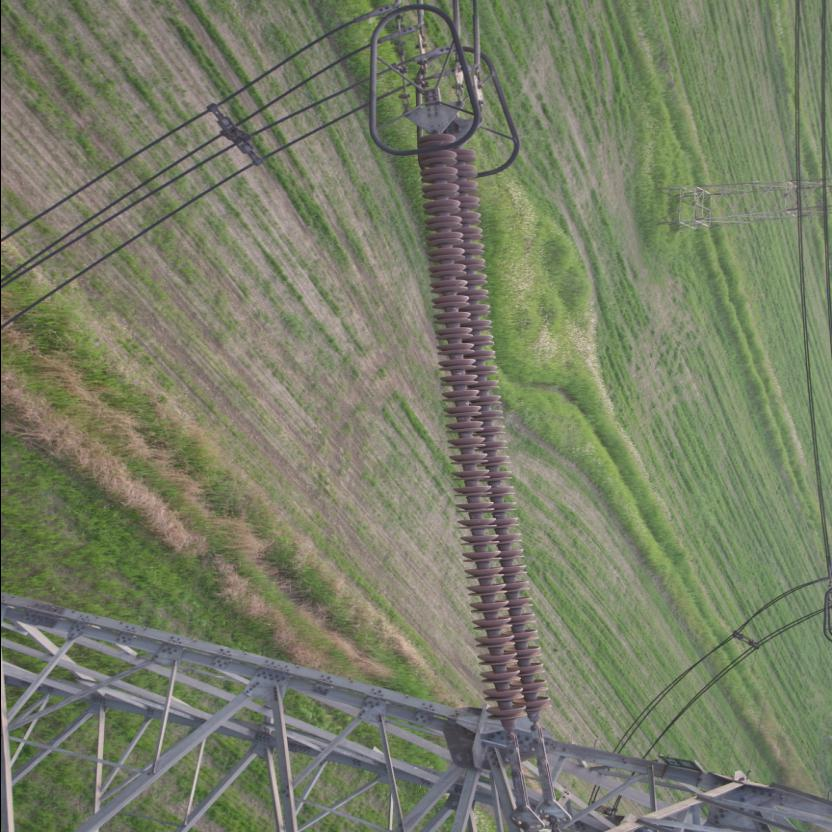insulator: (416, 126, 556, 740)
